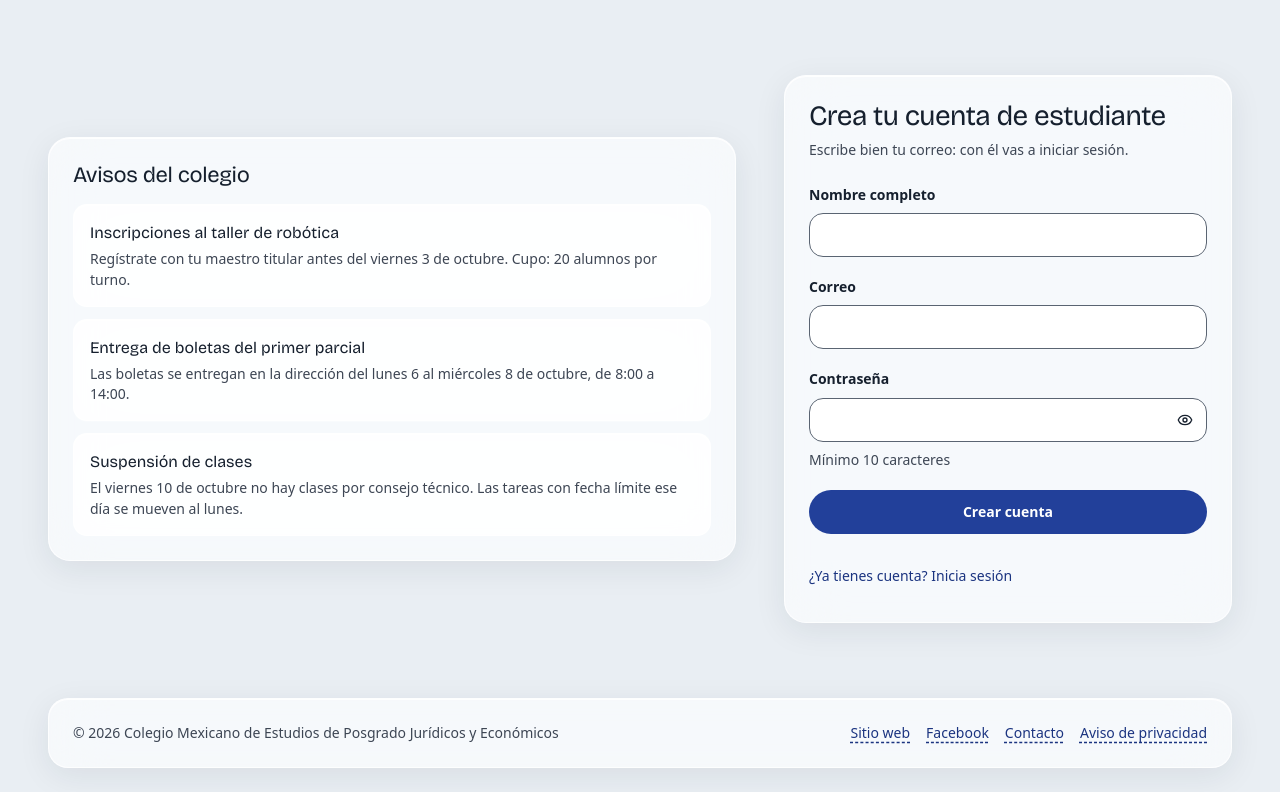
Scenario: ataque (AUTH-03a r1): el login y el registro salen de la caché (§D-A3) › registro con 409 CORREO_EN_USO: alerta y la contraseña fuera de la caché
The width and height of the screenshot is (1280, 792).
Expected: the button "Crear cuenta" is shown, [809, 490, 1207, 534]
Type "Ana López" into the field labelled "Nombre completo" at x=1008, y=235, box [809, 213, 1207, 257]
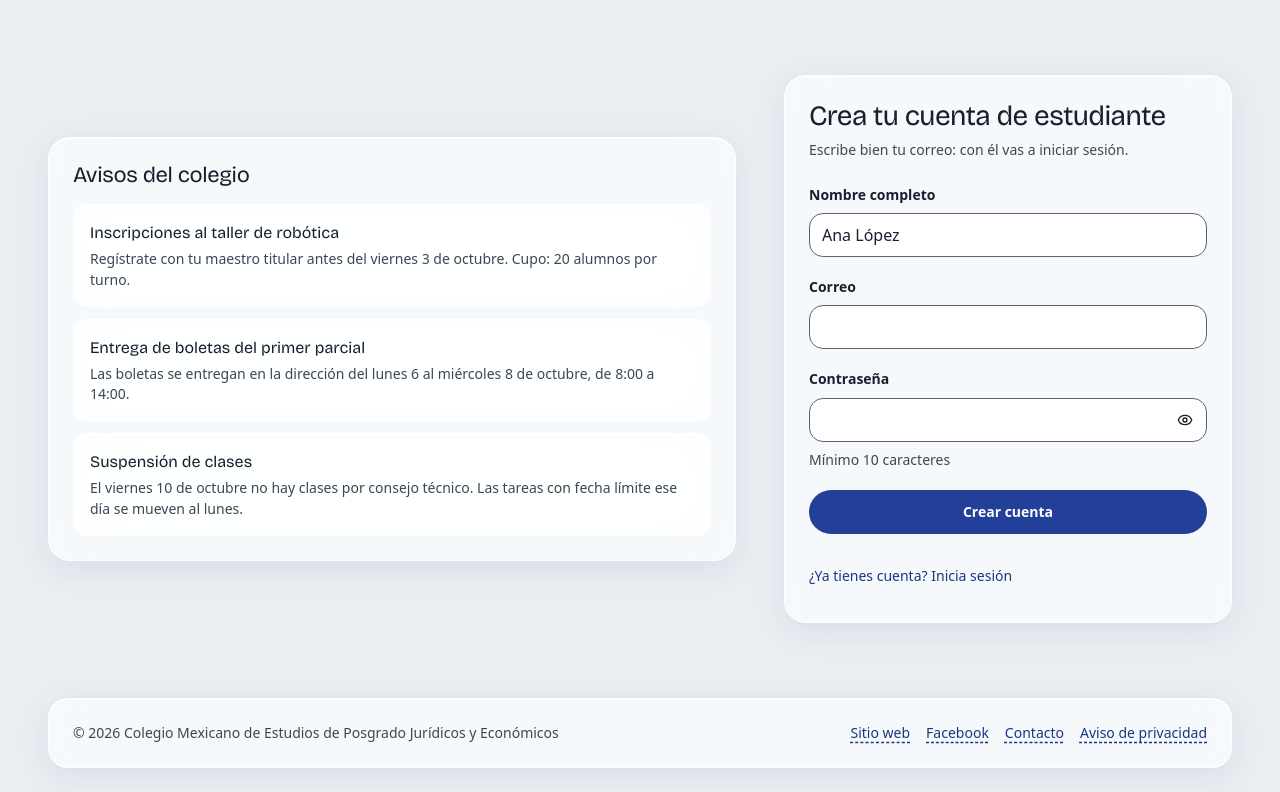
Type "ana@ejemplo.mx" into the field labelled "Correo" at x=1008, y=327, box [809, 305, 1207, 349]
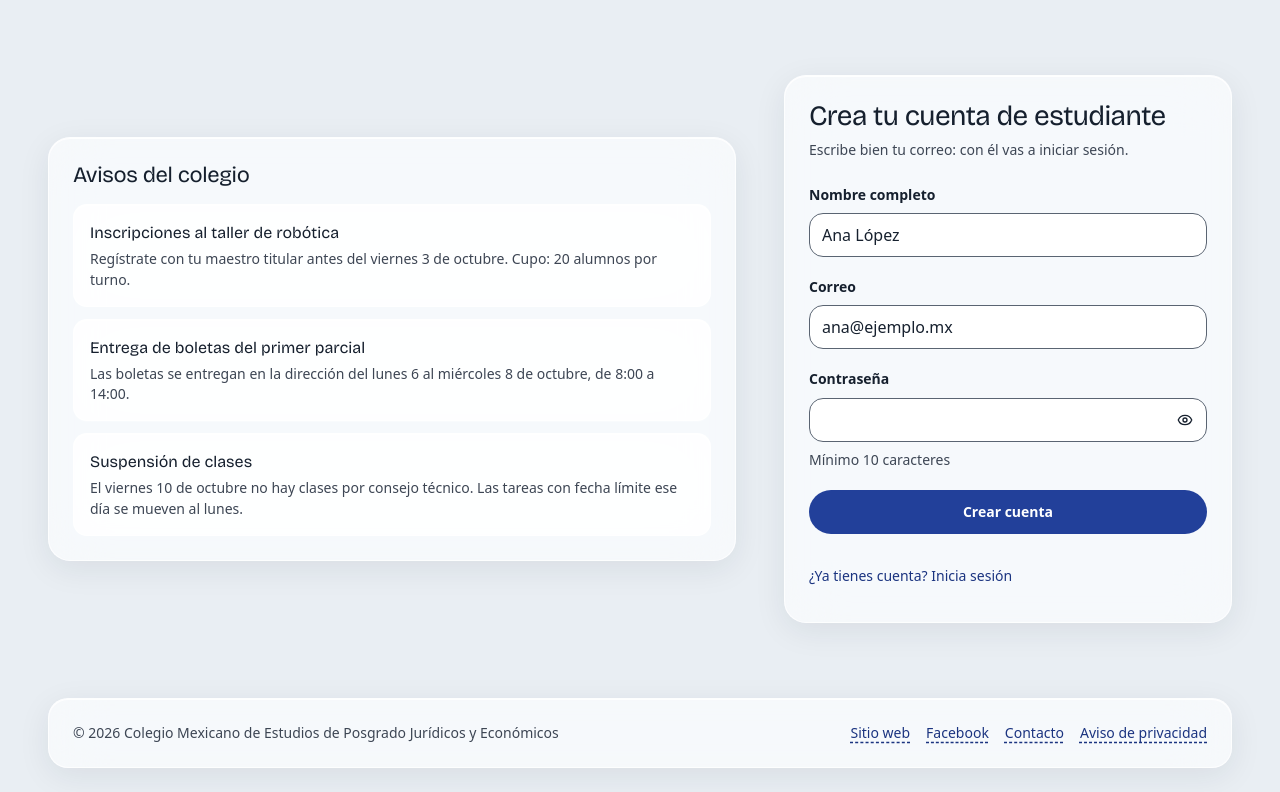
Type "mi-clave-propia-r1-03a" into the password field labelled "Contraseña" at x=1008, y=420, box [809, 398, 1207, 442]
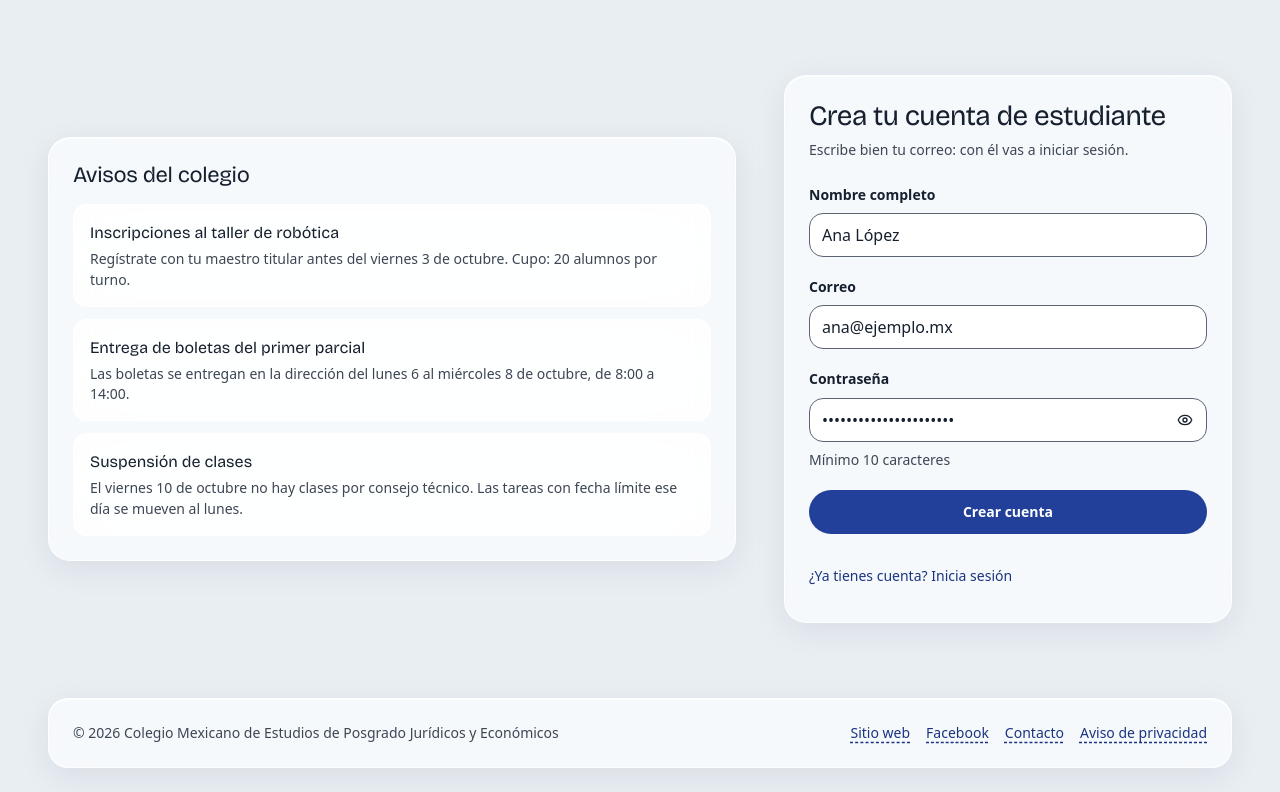
Click the button "Crear cuenta" at x=1008, y=512, box [809, 490, 1207, 534]
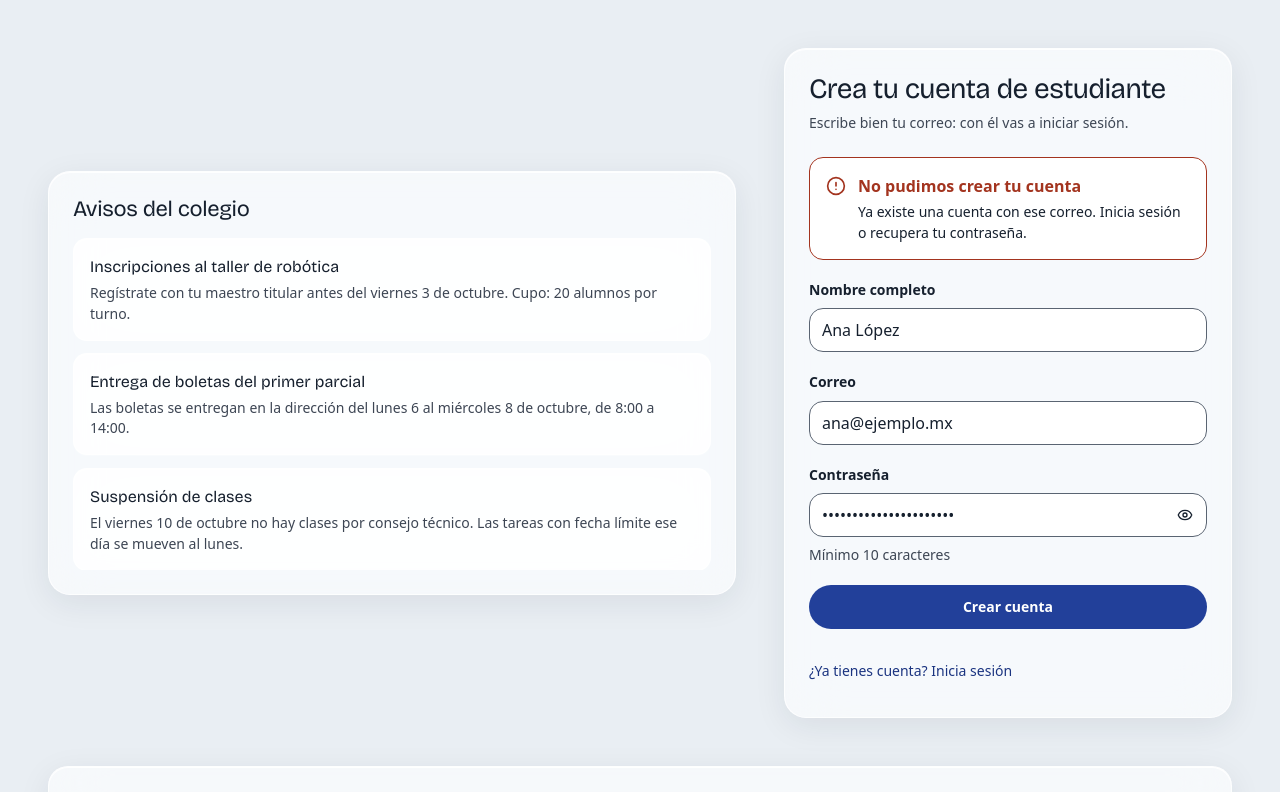
Result: the message is shown at [809, 158, 1207, 260]
